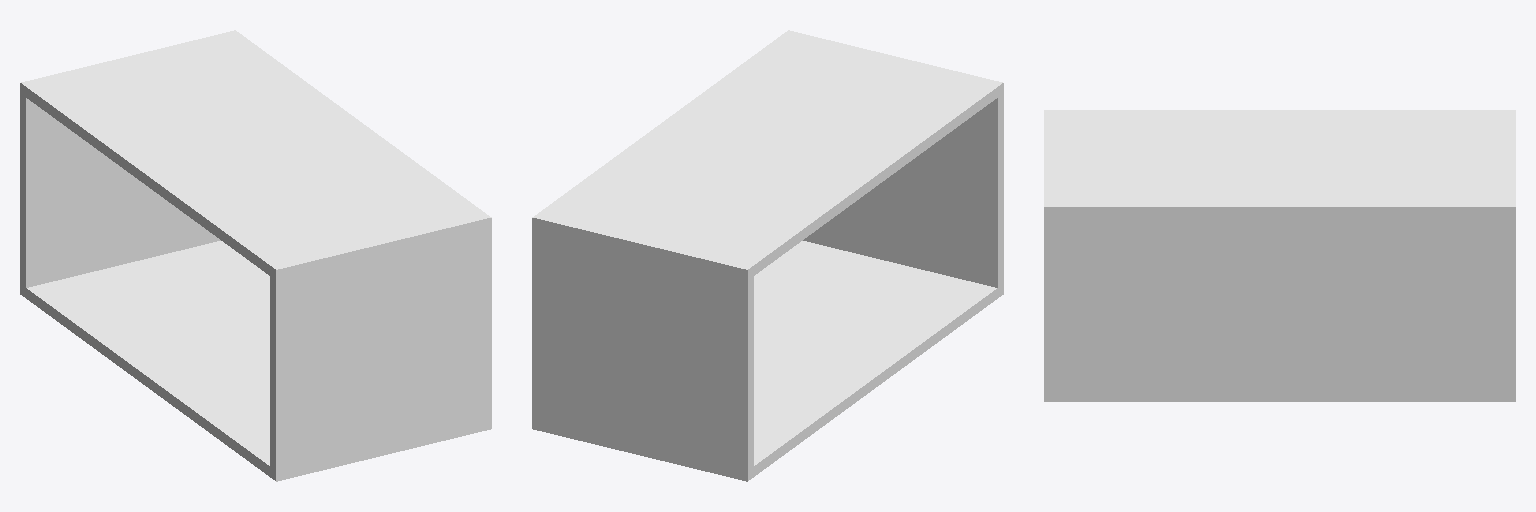
robot.urdf — cabinet:
<robot name="cabinet">
  <material name="white"><color rgba="1.0 1.0 1.0 1.0"/></material>
  <link name="base_link">
    <inertial>
      <mass value="0"/>
      <origin xyz="0 0 0" rpy="0 0 0"/>
      <inertia ixx="0"  ixy="0"  ixz="0" iyy="0" iyz="0" izz="0" />
    </inertial>
  </link>
  <link name="top_plate">
    <inertial>
      <mass value="5.0" />
      <origin xyz="0 0 0" /> 
      <inertia  ixx="1" ixy="0"  ixz="0"  iyy="1"  iyz="0"  izz="1" />
    </inertial>
    <visual>
      <origin xyz="0 0 0" rpy="0 0 0" />
      <geometry>
        <mesh filename="wood.obj" scale="0.4 0.825 0.02"/>
      </geometry>
      <material name="white"/>
    </visual>
    <collision>
      <origin xyz="0 0 0" rpy="0 0 0" />
      <geometry>
        <box size="0.4 0.825 0.02"/>
      </geometry>
    </collision>
  </link>
    <link name="bottom_plate">
    <inertial>
      <mass value="5.0" />
      <origin xyz="0 0 0" /> 
      <inertia  ixx="1" ixy="0"  ixz="0"  iyy="1"  iyz="0"  izz="1" />
    </inertial>
    <visual>
      <origin xyz="0 0 0" rpy="0 0 0" />
      <geometry>
        <mesh filename="wood.obj" scale="0.4 0.825 0.02"/>
      </geometry>
      <material name="white"/>
    </visual>
    <collision>
      <origin xyz="0 0 0" rpy="0 0 0" />
      <geometry>
        <box size="0.4 0.825 0.02"/>
      </geometry>
    </collision>
  </link>
  <link name="left_plate">
    <inertial>
      <mass value="5.0" />
      <origin xyz="0 0 0" /> 
      <inertia  ixx="1" ixy="0"  ixz="0"  iyy="1"  iyz="0"  izz="1" />
    </inertial>
    <visual>
      <origin xyz="0 0 0" rpy="0 0 0" />
      <geometry>
        <mesh filename="wood.obj" scale="0.4 0.02 0.395"/>
      </geometry>
      <material name="white"/>
    </visual>
    <collision>
      <origin xyz="0 0 0" rpy="0 0 0" />
      <geometry>
        <box size="0.4 0.02 0.395"/>
      </geometry>
    </collision>
  </link>
  <link name="right_plate">
    <inertial>
      <mass value="5.0" />
      <origin xyz="0 0 0" /> 
      <inertia  ixx="1" ixy="0"  ixz="0"  iyy="1"  iyz="0"  izz="1" />
    </inertial>
    <visual>
      <origin xyz="0 0 0" rpy="0 0 0" />
      <geometry>
        <mesh filename="wood.obj" scale="0.4 0.02 0.395"/>
      </geometry>
      <material name="white"/>
    </visual>
    <collision>
      <origin xyz="0 0 0" rpy="0 0 0" />
      <geometry>
        <box size="0.4 0.02 0.395"/>
      </geometry>
    </collision>
  </link>
  <link name="back_plate">
    <inertial>
      <mass value="5.0" />
      <origin xyz="0 0 0" /> 
      <inertia  ixx="1" ixy="0"  ixz="0"  iyy="1"  iyz="0"  izz="1" />
    </inertial>
    <visual>
      <origin xyz="0 0 0" rpy="0 0 0" />
      <geometry>
        <mesh filename="wood.obj" scale="0.02 0.865 0.395"/>
      </geometry>
      <material name="white"/>
    </visual>
    <collision>
      <origin xyz="0 0 0" rpy="0 0 0" />
      <geometry>
        <box size="0.02 0.865 0.395"/>
      </geometry>
    </collision>
  </link>
  <joint name="top_plate" type="fixed">
    <parent link="base_link"/>
    <child link="top_plate"/>
    <origin xyz="0.00 0.00 0.365"/>
  </joint>
    <joint name="bottom_plate" type="fixed">
    <parent link="base_link"/>
    <child link="bottom_plate"/>
    <origin xyz="0.00 0.00 -0.01"/>
  </joint>
  <joint name="left_plate" type="fixed">
    <parent link="base_link"/>
    <child link="left_plate"/>
    <origin xyz="0.00 0.4225 0.1775"/>
  </joint>
  <joint name="right_plate" type="fixed">
    <parent link="base_link"/>
    <child link="right_plate"/>
    <origin xyz="0.00 -0.4225 0.1775"/>
  </joint>
  <joint name="back_plate" type="fixed">
    <parent link="base_link"/>
    <child link="back_plate"/>
    <origin xyz="0.21 0.00 0.1775"/>
  </joint>
</robot>

--- What the picture shows (computed from the rendered views, not written in the file) ---
The picture shows the robot from 3 angles, left to right: view 1: azimuth 30°, elevation 25°; view 2: azimuth 150°, elevation 25°; view 3: azimuth 270°, elevation 25°; orthographic projection.
Model cabinet with 6 links and 5 joints (5 fixed), rooted at base_link, posed every joint at zero.
Visible links, largest first — view 1: top_plate, right_plate, bottom_plate, left_plate, back_plate; view 2: top_plate, left_plate, bottom_plate, right_plate, back_plate; view 3: back_plate, top_plate, left_plate, right_plate.
Boxes of the visible links, x1,y1,x2,y2 form: top_plate: (26, 37, 474, 275); right_plate: (270, 216, 480, 481); bottom_plate: (26, 241, 269, 476); left_plate: (20, 33, 230, 297); back_plate: (226, 30, 491, 431); top_plate: (549, 37, 997, 275); left_plate: (543, 216, 753, 481); bottom_plate: (754, 241, 997, 476); right_plate: (793, 33, 1003, 297); back_plate: (532, 30, 797, 431); back_plate: (1044, 202, 1515, 401); top_plate: (1055, 110, 1504, 201); left_plate: (1505, 110, 1515, 201); right_plate: (1044, 110, 1054, 201).
Bounding box of the posed robot: 0.42 × 0.865 × 0.395 m (x, y, z).
5 mesh visuals loaded from 1 distinct referenced files (1 OBJ).